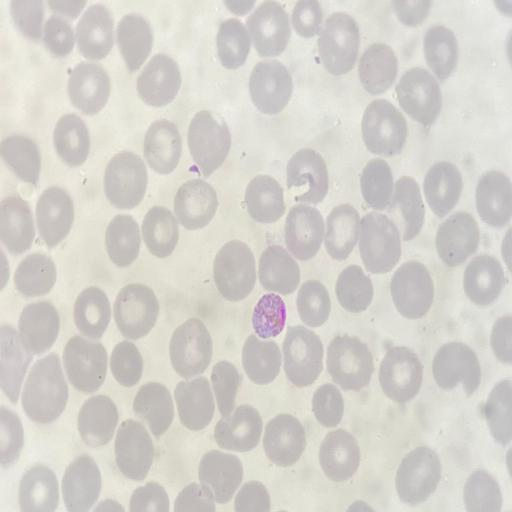Infected: (252, 292, 287, 337)
Uninfected: (20, 358, 70, 422), (357, 211, 401, 276), (187, 111, 232, 173), (168, 319, 214, 377), (431, 341, 480, 395), (325, 335, 372, 391), (396, 69, 442, 126), (315, 15, 360, 73), (103, 152, 149, 208), (16, 298, 62, 354), (63, 336, 109, 391), (378, 347, 424, 402), (113, 284, 159, 339), (34, 187, 76, 247), (395, 448, 440, 504), (213, 403, 263, 453), (113, 420, 156, 478), (196, 449, 243, 502), (213, 240, 255, 299), (437, 210, 482, 265), (246, 2, 291, 57), (136, 55, 183, 107), (360, 101, 406, 154), (287, 150, 330, 206), (281, 328, 324, 384), (131, 383, 175, 437), (283, 204, 326, 259), (74, 6, 116, 62), (248, 61, 293, 113), (76, 395, 120, 448), (422, 162, 464, 217), (173, 378, 217, 430), (394, 260, 434, 317), (60, 457, 102, 511), (173, 180, 219, 229), (318, 430, 362, 481), (72, 287, 114, 340), (13, 250, 58, 299), (390, 177, 425, 240), (0, 197, 38, 255), (67, 64, 111, 114), (262, 415, 306, 465), (115, 13, 154, 69), (0, 134, 42, 186), (143, 119, 184, 172), (257, 245, 299, 296), (104, 214, 144, 267), (241, 335, 284, 384), (53, 114, 94, 165), (323, 204, 361, 259), (462, 255, 504, 304), (474, 170, 512, 224), (359, 158, 398, 210), (141, 206, 180, 257), (335, 265, 374, 315), (423, 25, 460, 77), (358, 44, 399, 90), (18, 466, 59, 512), (246, 175, 284, 223), (209, 361, 241, 414), (215, 19, 251, 66), (110, 341, 147, 386), (296, 280, 331, 326), (9, 0, 46, 40), (312, 384, 347, 426), (464, 471, 501, 510), (42, 16, 77, 57), (173, 483, 217, 511), (129, 484, 169, 511), (291, 1, 322, 35), (233, 482, 270, 510)
